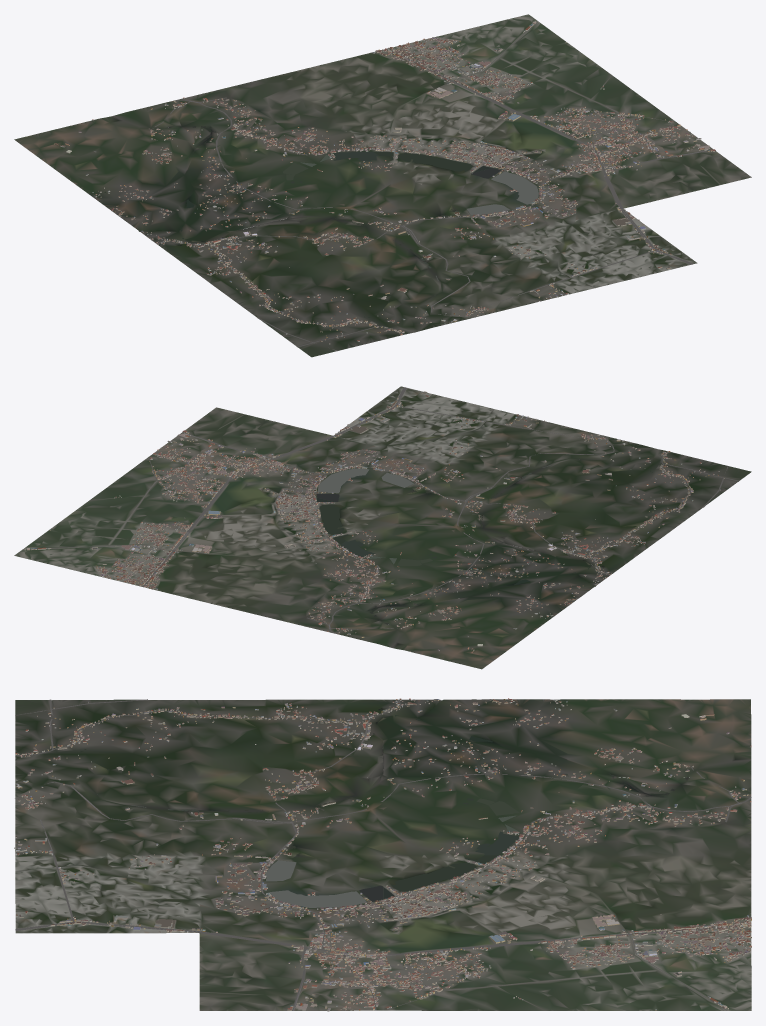
The picture shows the model from 3 angles, top to bottom: view 1: azimuth 30°, elevation 25°; view 2: azimuth 150°, elevation 25°; view 3: azimuth 270°, elevation 25°; orthographic projection. The views are drawn at different scales.
Parts seen in each view (by area): view 1: ground, buildings, water, roads; view 2: ground, buildings, roads, water; view 3: ground, buildings, water, roads.
Part boxes in pixels (x1=…): ground: x1=14, y1=14, x2=751, y2=357; buildings: x1=54, y1=21, x2=715, y2=344; water: x1=104, y1=81, x2=584, y2=318; roads: x1=150, y1=21, x2=713, y2=351; ground: x1=14, y1=386, x2=751, y2=669; buildings: x1=24, y1=391, x2=724, y2=653; roads: x1=23, y1=387, x2=738, y2=633; water: x1=113, y1=459, x2=652, y2=616; ground: x1=15, y1=699, x2=751, y2=1010; buildings: x1=14, y1=698, x2=751, y2=1011; water: x1=75, y1=707, x2=675, y2=994; roads: x1=15, y1=699, x2=751, y2=1010.
Size of the model in its own units: 5625 by 32.28 by 5623.
